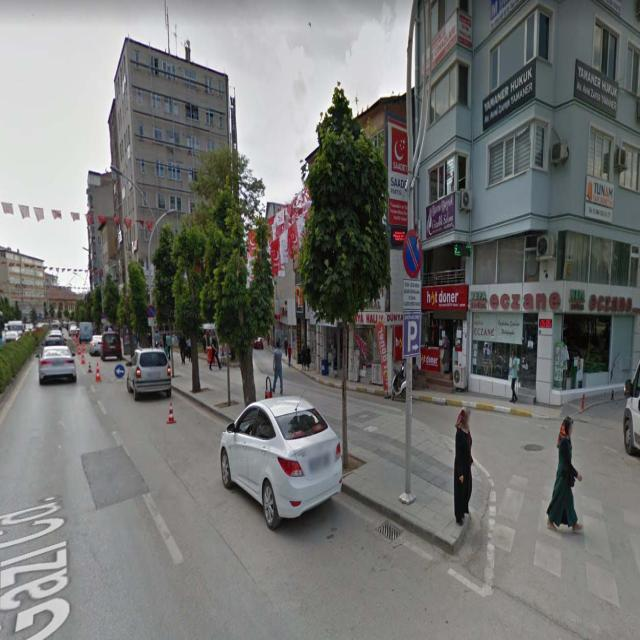park: (404, 316, 421, 356)
parkyasak: (403, 231, 421, 278), (147, 305, 156, 317)
sol: (115, 365, 126, 377)
